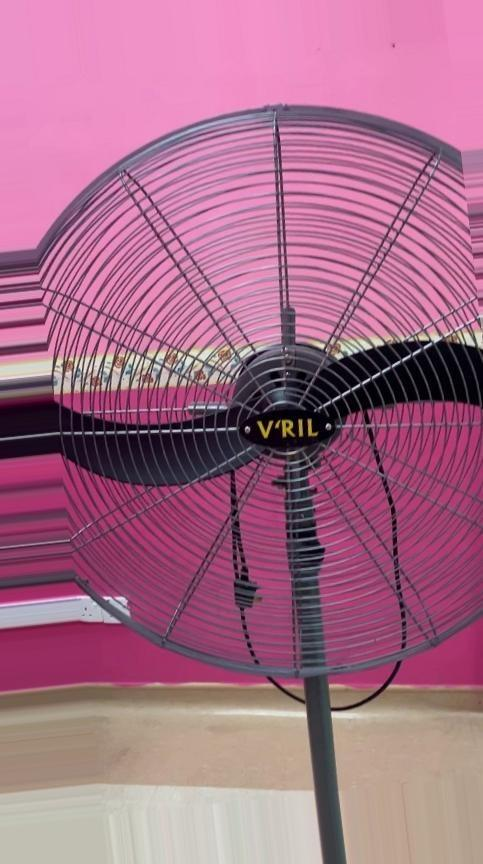fan: (43, 83, 483, 864)
